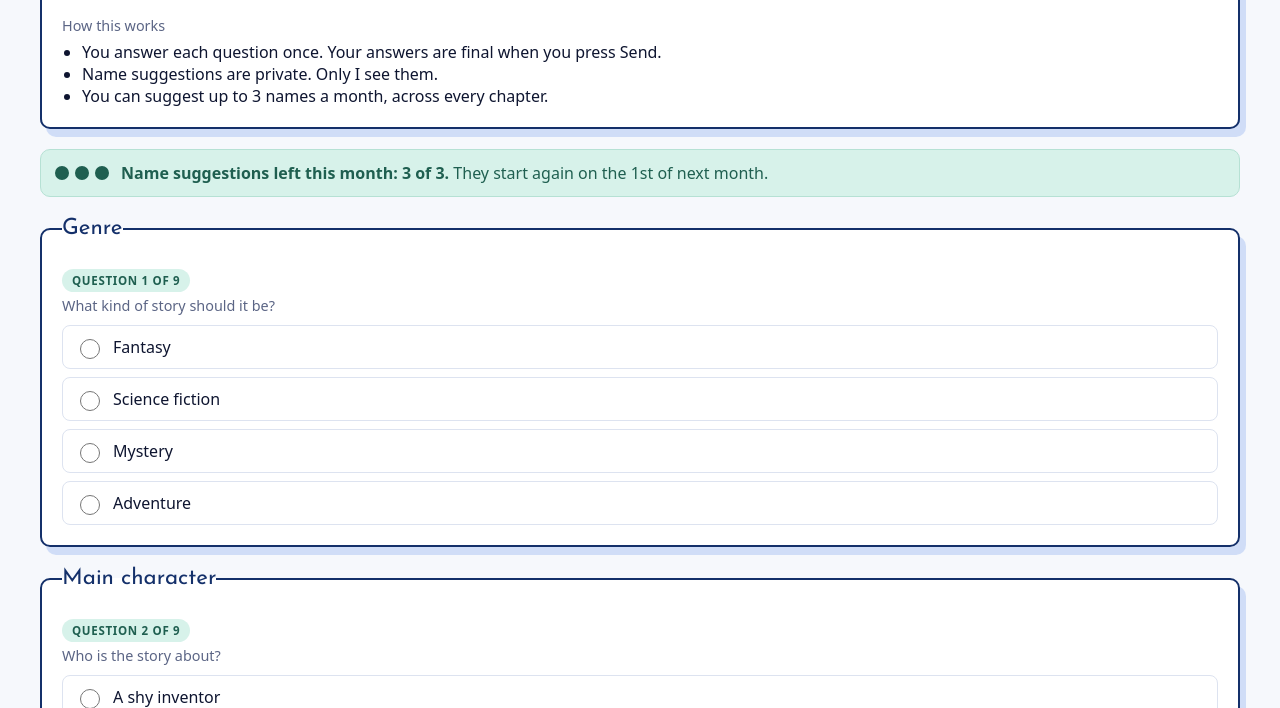
Scenario: the form › needs the final-answer tick box, warns gently about skipped questions, then sends only on "Send anyway"
The image size is (1280, 708).
(page scrolled)
Click the radio button labelled "Fantasy": (90, 349) [80, 339, 100, 359]
(page scrolled)
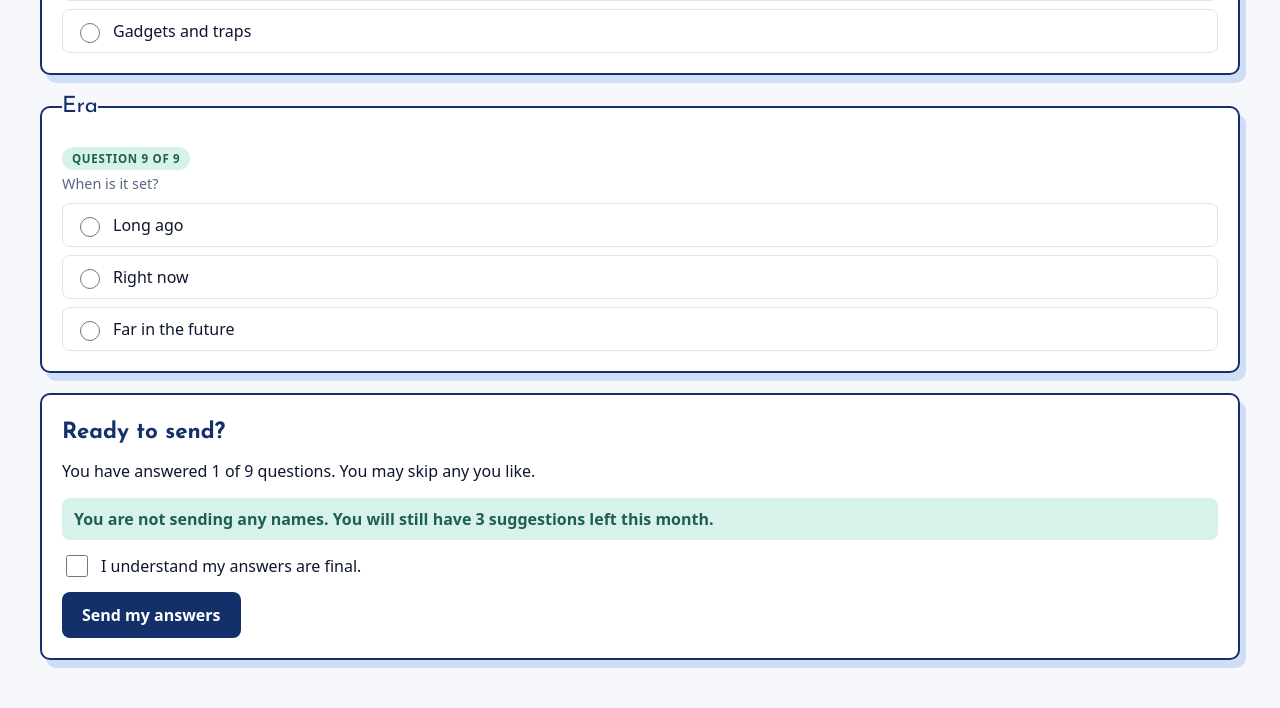
Click the button "Send my answers": (151, 615) [62, 592, 240, 638]
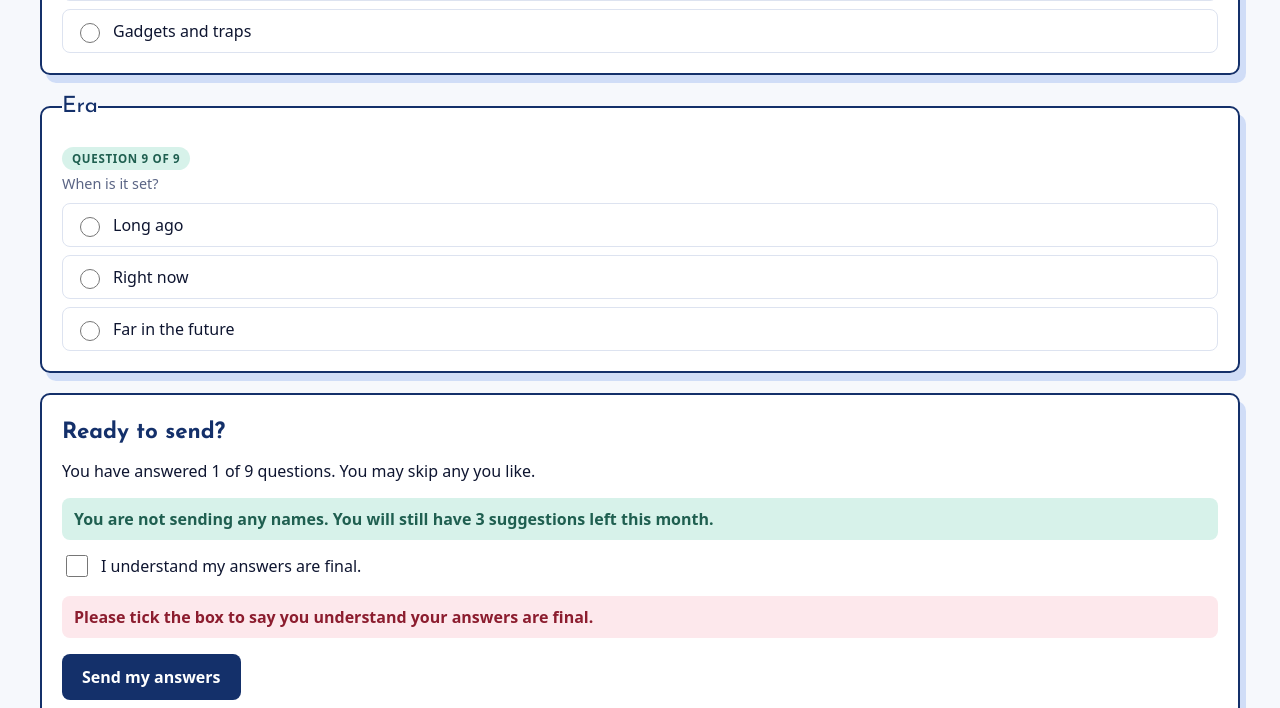
Check: the message shows "tick the box", box [74, 606, 593, 628]
Click the checkbox labelled "I understand my answers are final.": (77, 566) [66, 555, 88, 577]
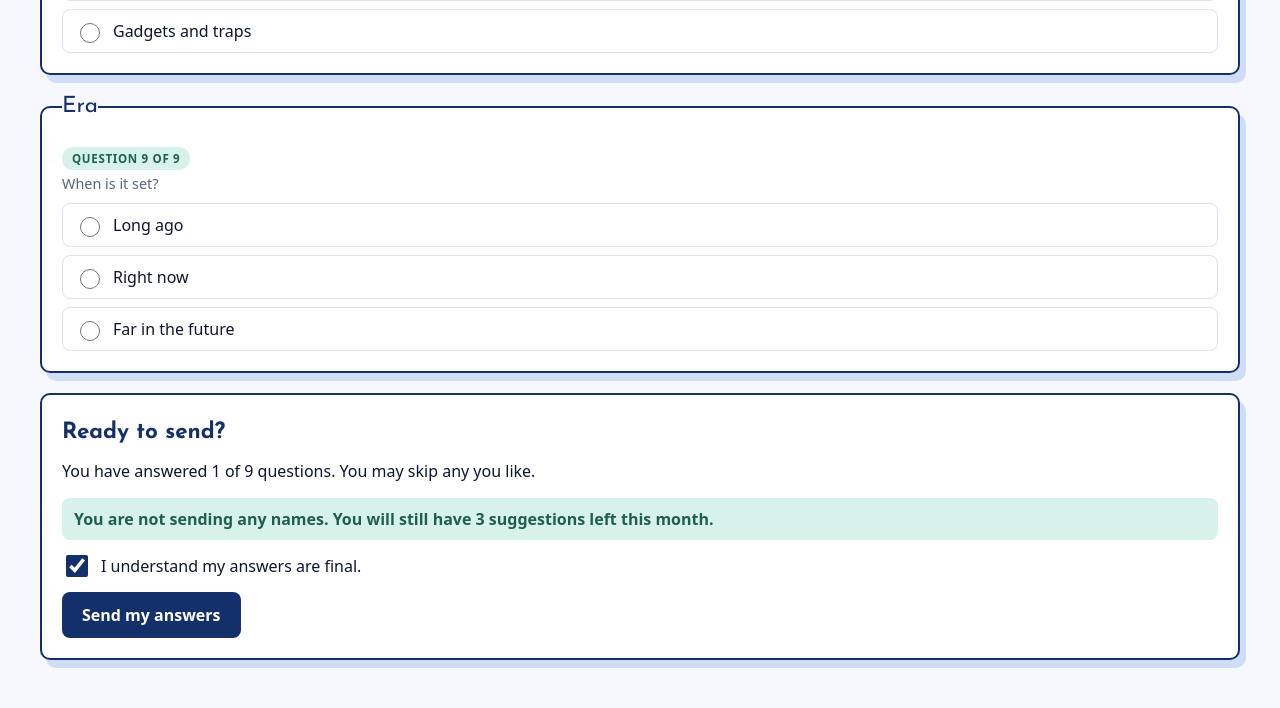
Click the button "Send my answers": (151, 615) [62, 592, 240, 638]
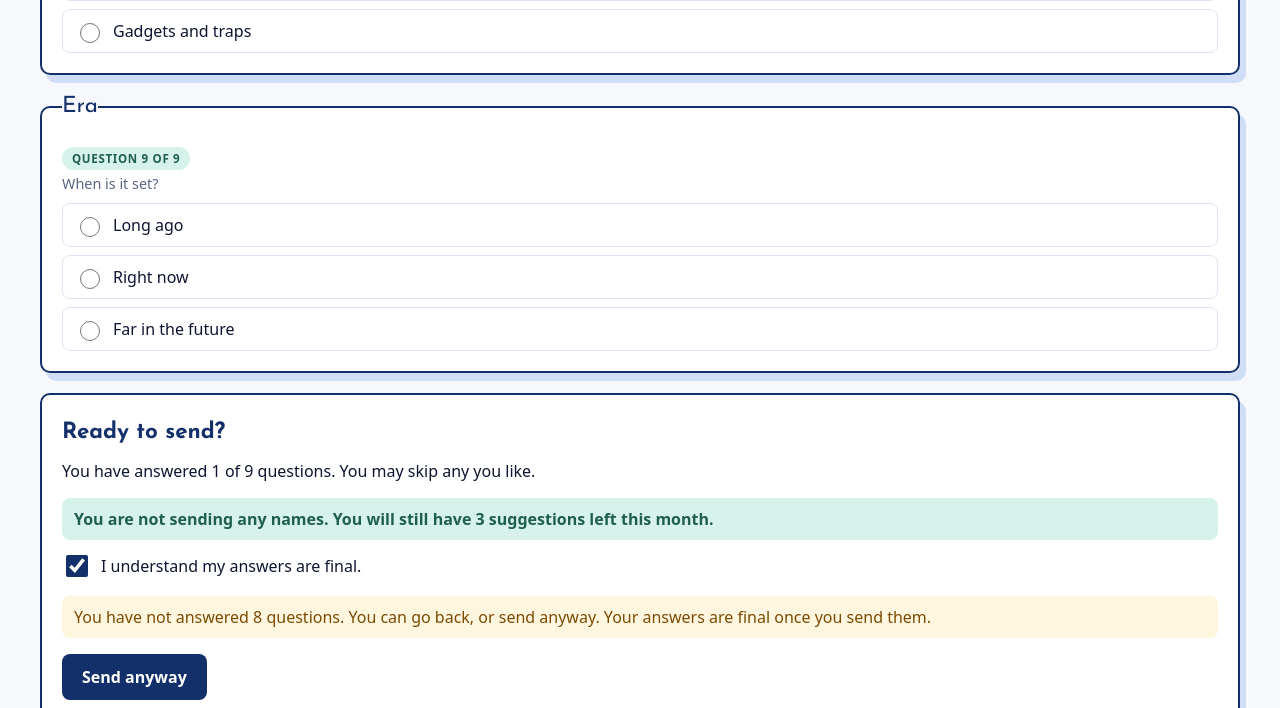
Check: the text "You have not answered 8 questions" is shown, box [62, 596, 1218, 638]
Click the button "Send anyway": (134, 677) [62, 654, 207, 700]
(page scrolled)
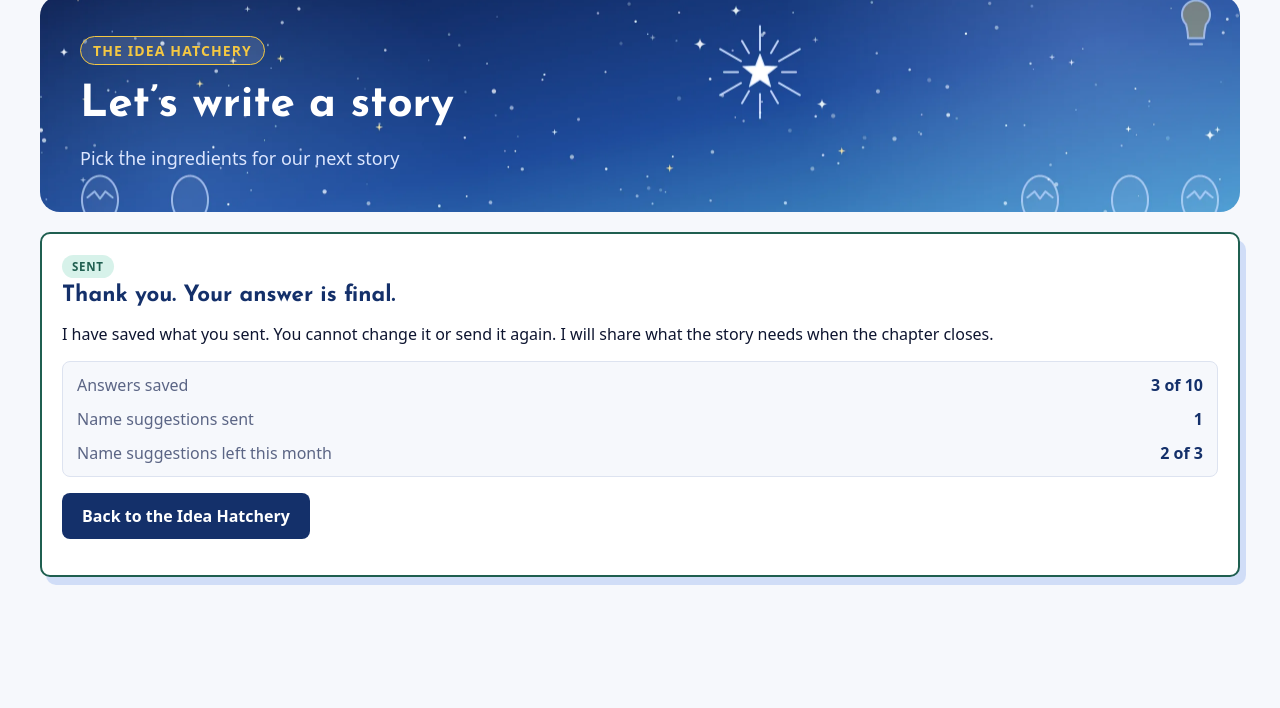
Check: the heading "Thank you. Your answer is final." is shown, box [62, 284, 396, 307]
